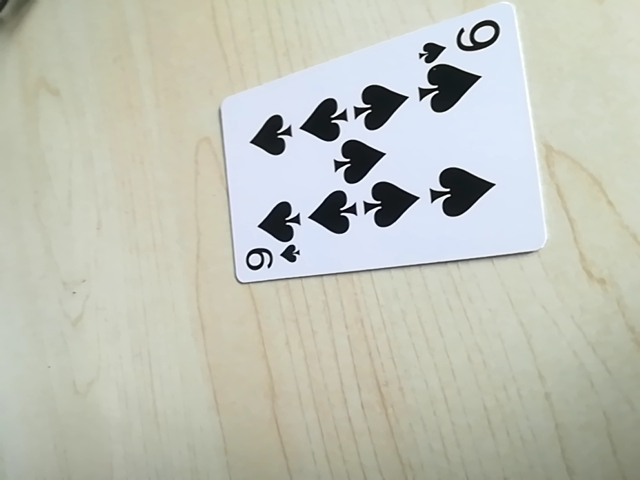ht 9: (417, 15, 506, 62), (240, 241, 304, 281)
